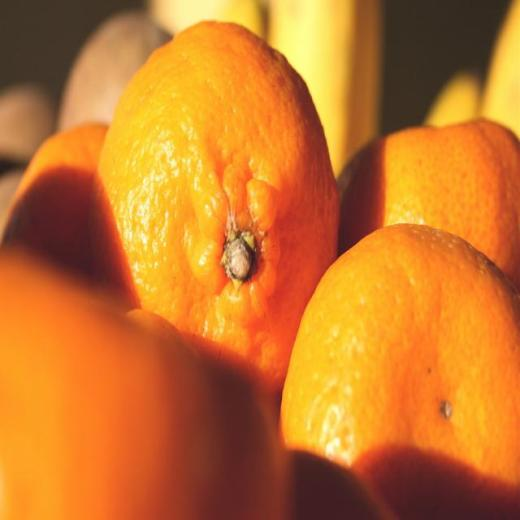Grape: (88, 19, 341, 388), (278, 223, 520, 520), (340, 114, 520, 291), (2, 124, 108, 268)
